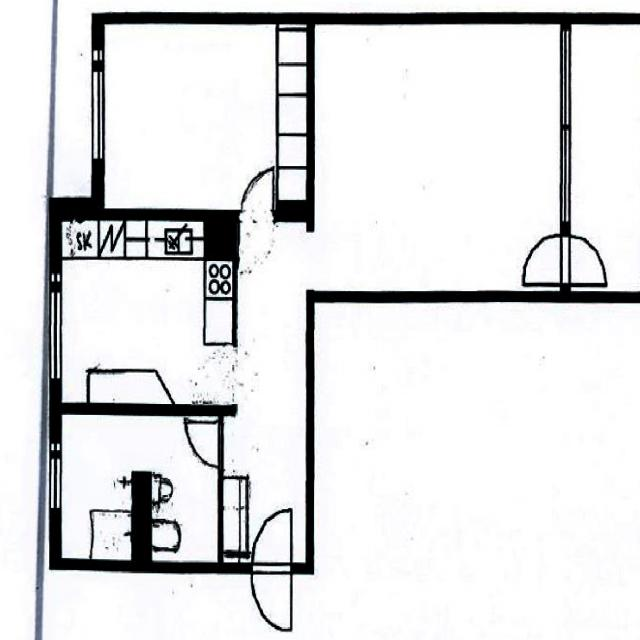door: (252, 560, 292, 628), (252, 504, 292, 572), (560, 235, 606, 285), (524, 235, 570, 285), (241, 163, 273, 220), (185, 422, 223, 466)
